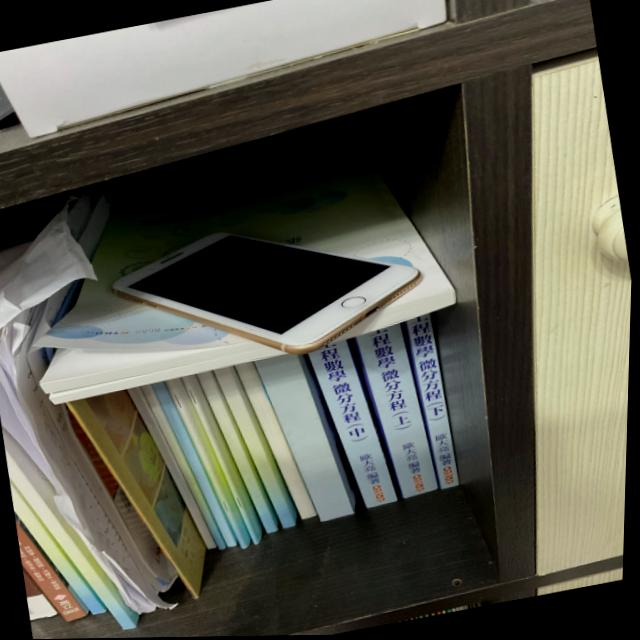Smartphone: (113, 233, 422, 355)
